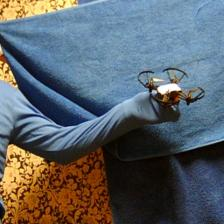drone: (139, 67, 205, 106)
